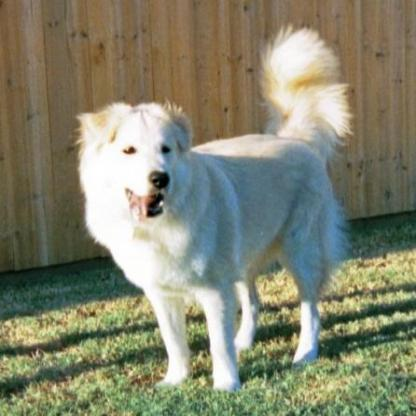kuvasz: (71, 20, 354, 390)
